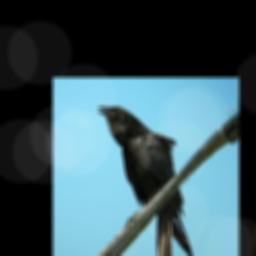Crow: (97, 103, 193, 256)
